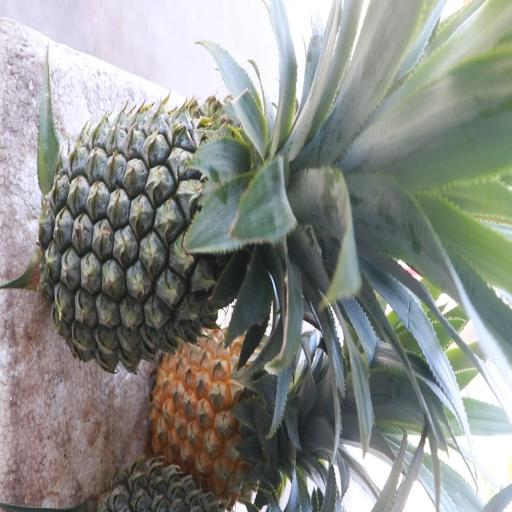Pineapple - v8 v1: (149, 333, 317, 499)
